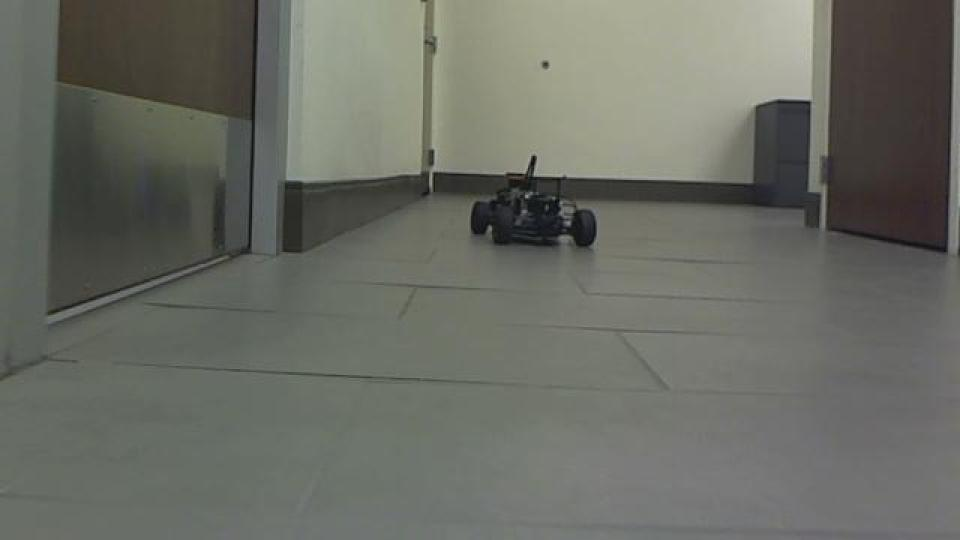car: (465, 152, 599, 250)
